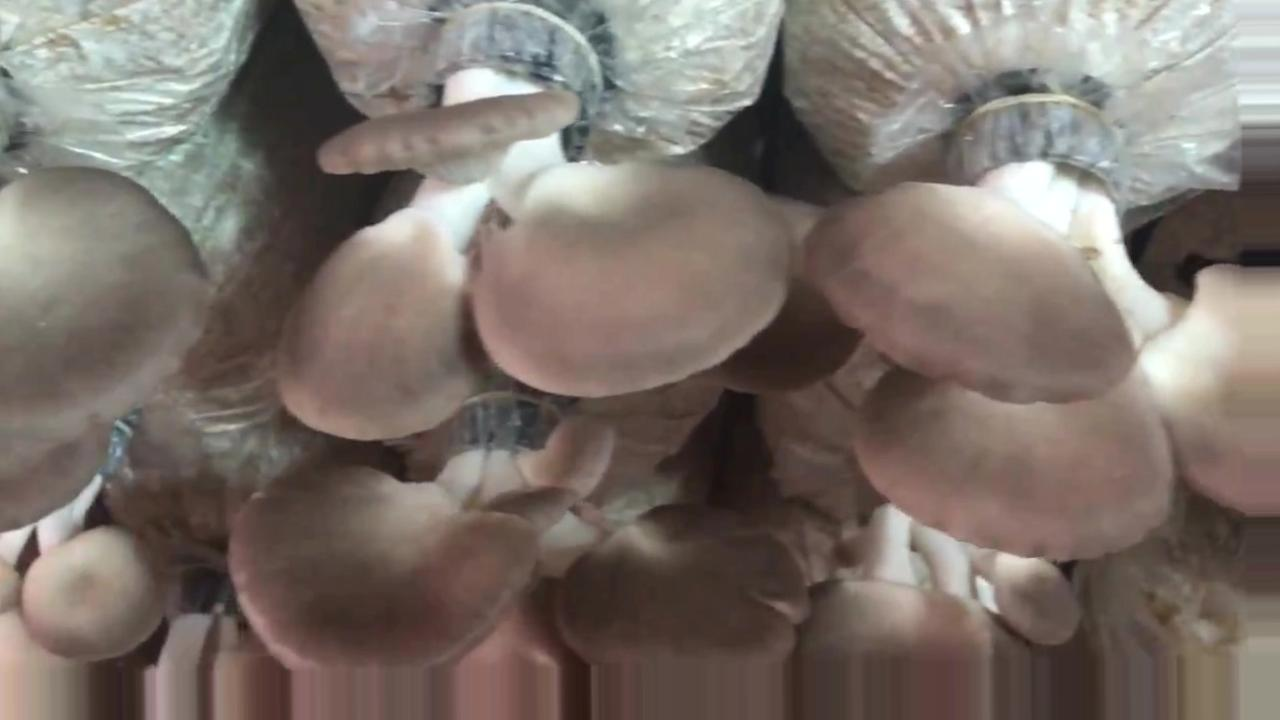nam: (805, 87, 1280, 561), (279, 1, 788, 432), (232, 371, 811, 674), (1, 168, 206, 537), (796, 455, 1075, 648), (1, 405, 173, 658), (698, 193, 863, 398)
